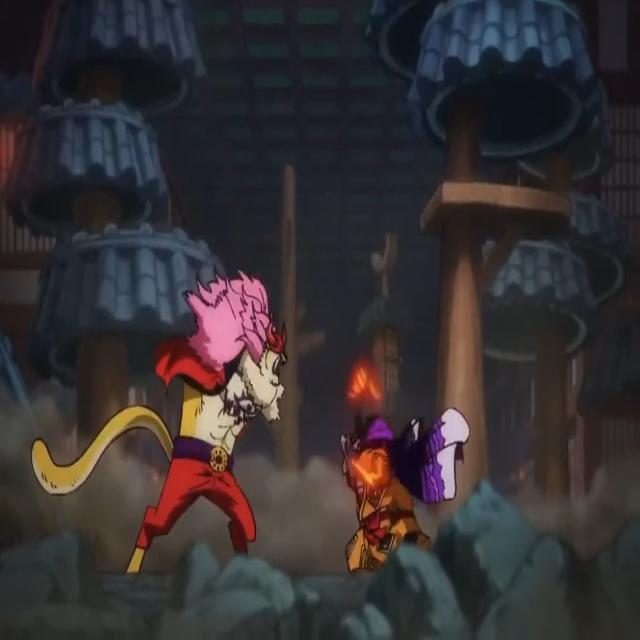Jinbe: (338, 407, 464, 570)
